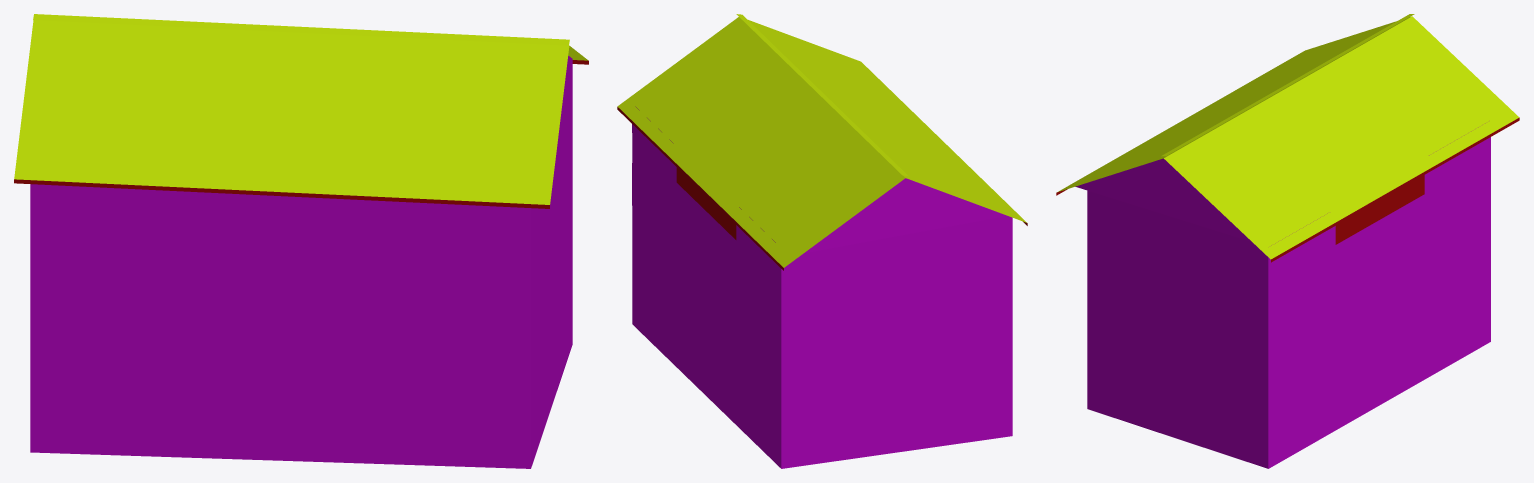
File: bgj_340.glb
The picture shows the model from 3 angles, left to right: view 1: azimuth 30°, elevation 25°; view 2: azimuth 150°, elevation 25°; view 3: azimuth 270°, elevation 25°; orthographic projection. The views are drawn at different scales.
Visible parts, largest first — view 1: bgj_340; view 2: bgj_340; view 3: bgj_340.
Boxes of the visible parts, left/top/right/bottom form: bgj_340: left=14, top=14, right=588, bottom=468; bgj_340: left=617, top=14, right=1027, bottom=468; bgj_340: left=1056, top=14, right=1519, bottom=468.
Bounding box in the file's own units: 17.37 × 11.11 × 16.26.
